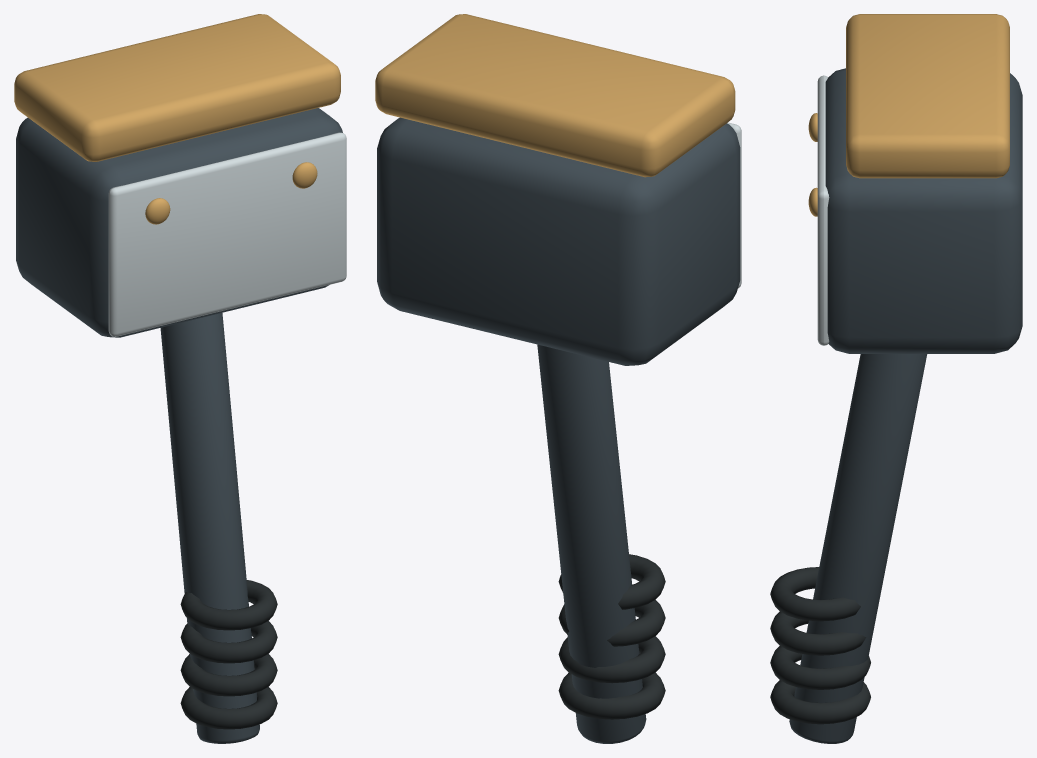
File: hammer.t4.glb
3 renders of one model, left to right at view 1: azimuth 30°, elevation 25°; view 2: azimuth 150°, elevation 25°; view 3: azimuth 270°, elevation 25°, orthographic. The views are drawn at different scales.
Visible parts, largest first — view 1: weapon_right__forged_bluelead_steel__protected, weapon_right__honed_steel_edge__protected, weapon_right__worn_warm_brass__protected, weapon_right__charcoal_rubber__protected; view 2: weapon_right__forged_bluelead_steel__protected, weapon_right__worn_warm_brass__protected, weapon_right__charcoal_rubber__protected; view 3: weapon_right__forged_bluelead_steel__protected, weapon_right__worn_warm_brass__protected, weapon_right__charcoal_rubber__protected, weapon_right__honed_steel_edge__protected.
Part boxes in pixels (box(x1,y1,x2,y2)): weapon_right__forged_bluelead_steel__protected: box(16, 108, 342, 743); weapon_right__honed_steel_edge__protected: box(108, 132, 346, 336); weapon_right__worn_warm_brass__protected: box(14, 14, 340, 224); weapon_right__charcoal_rubber__protected: box(180, 580, 277, 729); weapon_right__forged_bluelead_steel__protected: box(377, 117, 740, 743); weapon_right__worn_warm_brass__protected: box(375, 14, 735, 177); weapon_right__charcoal_rubber__protected: box(558, 554, 665, 719); weapon_right__forged_bluelead_steel__protected: box(789, 68, 1022, 743); weapon_right__worn_warm_brass__protected: box(808, 14, 1009, 216); weapon_right__charcoal_rubber__protected: box(770, 567, 870, 724); weapon_right__honed_steel_edge__protected: box(817, 75, 829, 345).
Size of the model in its own units: 0.5194 by 1.22 by 0.424.
